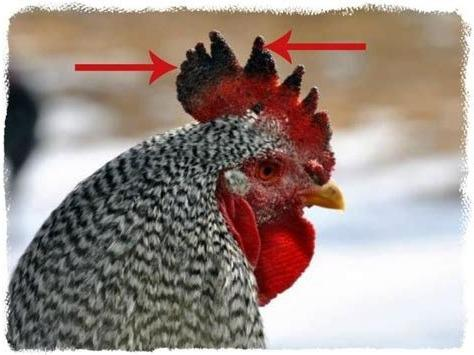AbNormal: (175, 29, 335, 178)
